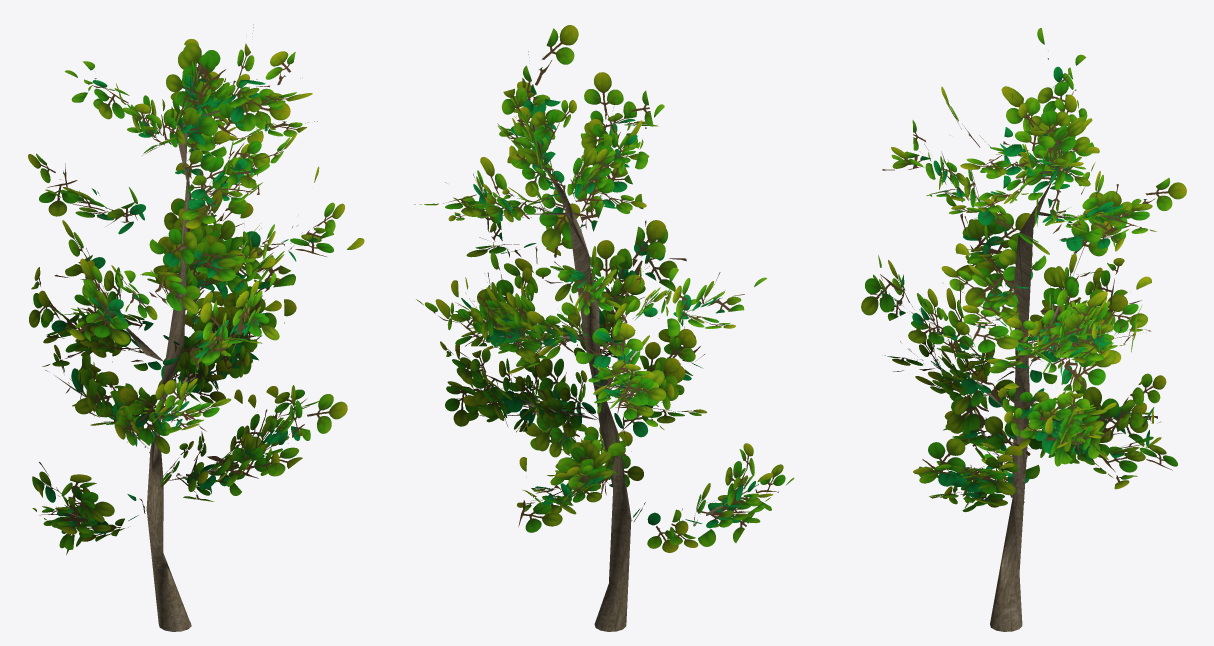
3 renders of one model, left to right at view 1: azimuth 30°, elevation 25°; view 2: azimuth 150°, elevation 25°; view 3: azimuth 270°, elevation 25°, orthographic. The views are drawn at different scales.
Parts seen in each view (by area): view 1: m1, m0; view 2: m1, m0; view 3: m1, m0.
Boxes of the visible parts, left/top/right/bottom form: m1: left=28, top=39, right=364, bottom=554; m0: left=45, top=24, right=317, bottom=631; m1: left=414, top=25, right=794, bottom=552; m0: left=445, top=51, right=758, bottom=631; m1: left=861, top=28, right=1186, bottom=512; m0: left=891, top=93, right=1161, bottom=631.
Size of the model in its own units: 6.34 by 10.14 by 5.79.
Materials: 2 (2 with a texture image).
